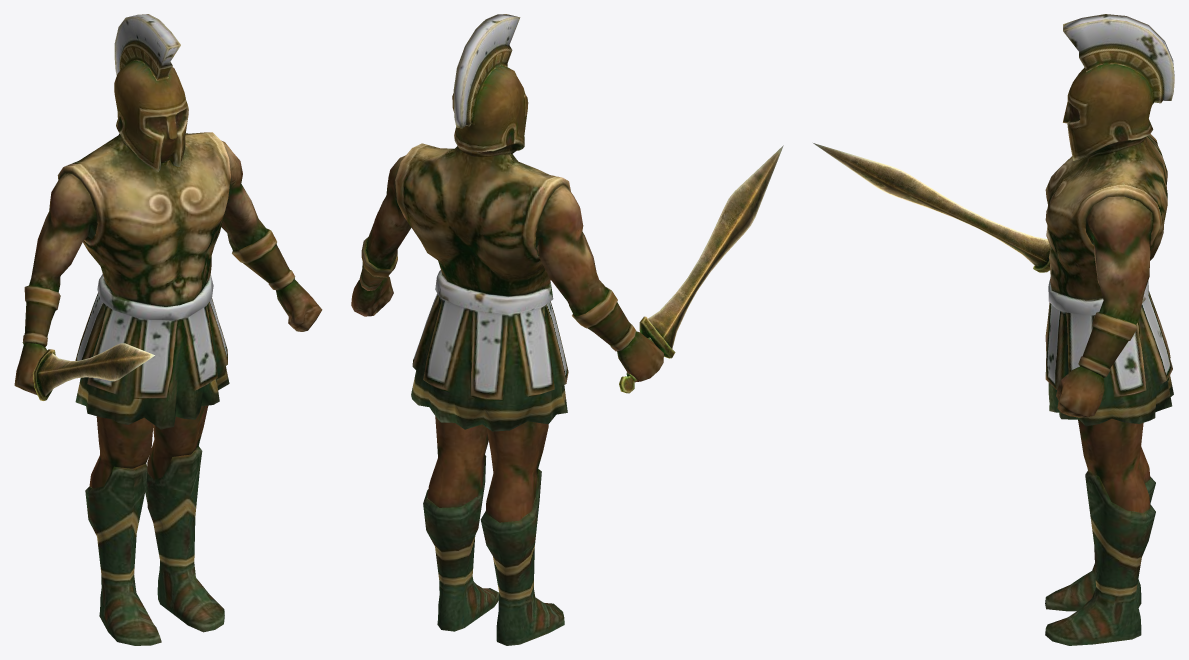
File: 99-colossus.glb
3 views of the same model, side by side, from view 1: azimuth 30°, elevation 25°; view 2: azimuth 150°, elevation 25°; view 3: azimuth 270°, elevation 25° (orthographic).
Bounding box in the file's own units: 3.64 × 6.84 × 3.73.
2 materials, 2 textured.
